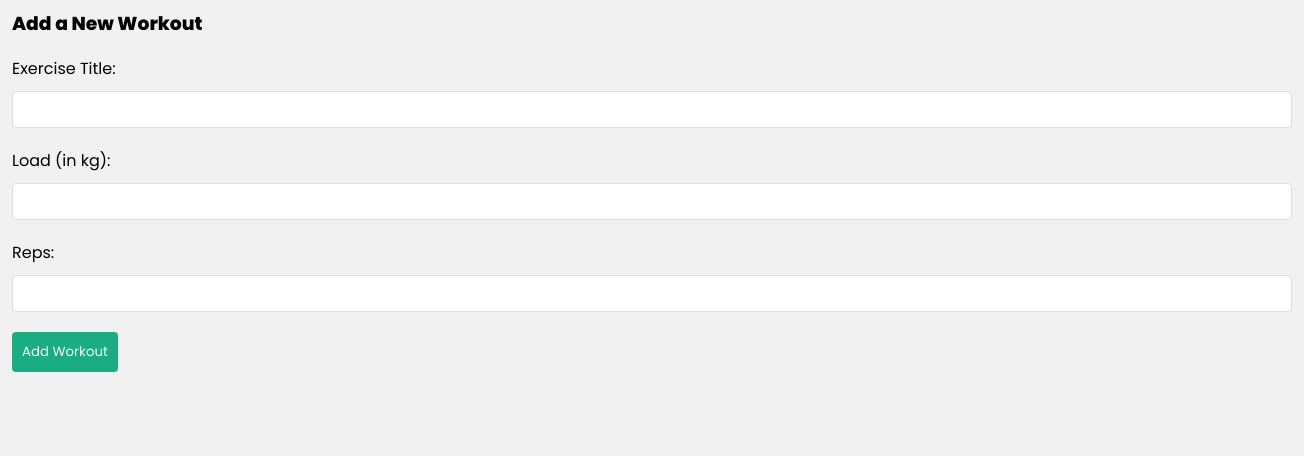
Test: WorkoutForm › shows error on failed submit and does NOT reset fields
This screenshot has width=1304, height=456.
Type "Squat" into the field labelled "Exercise Title:" at (652, 110), box [12,91,1292,128]
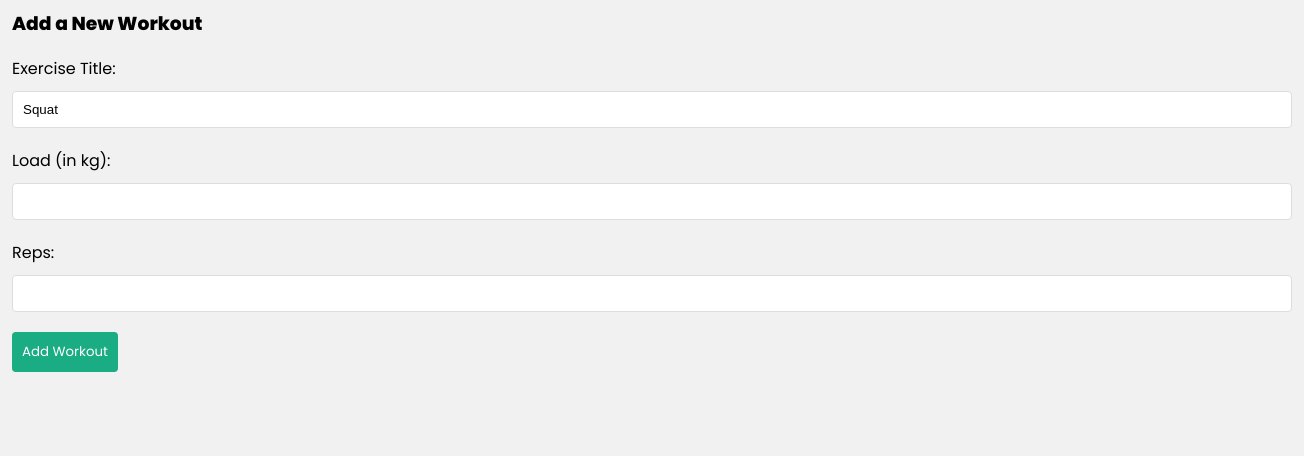
Type "100" into the number field labelled "Load (in kg):" at (652, 202), box [12,183,1292,220]
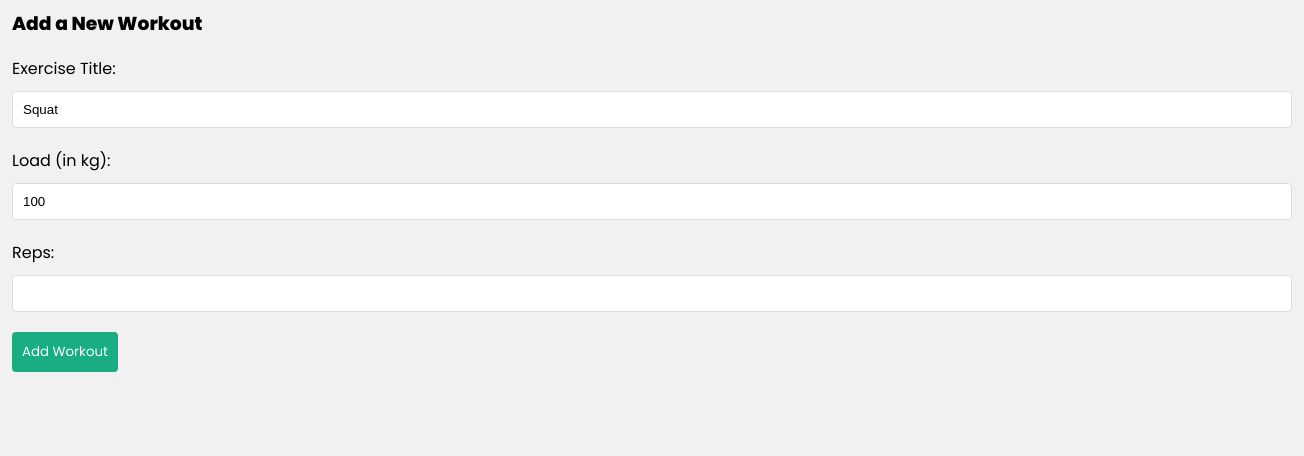
Click the button "Add Workout" at (65, 352), box [12,332,118,372]
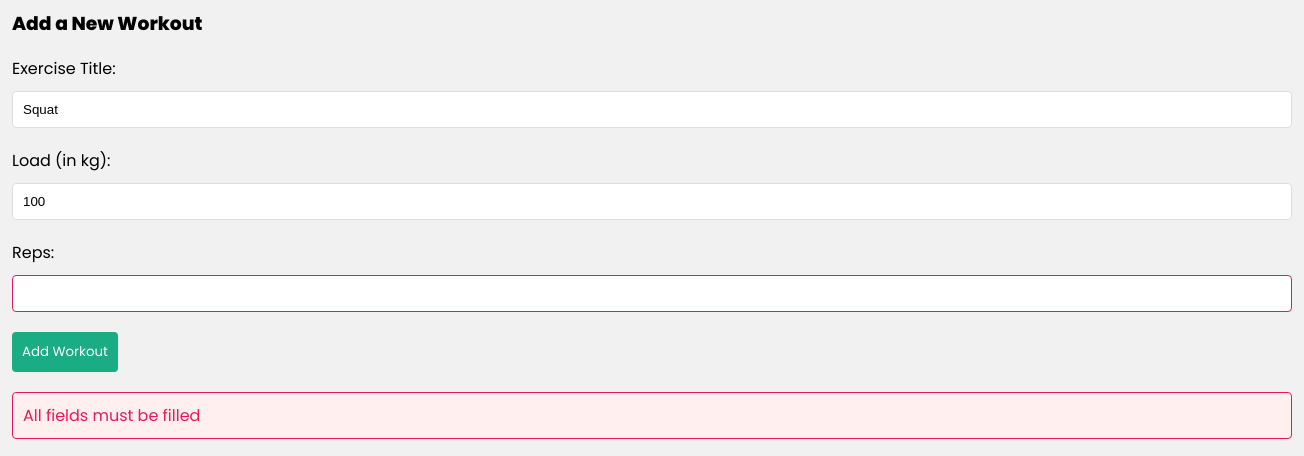
Now the text "All fields must be filled" is shown, box [12,392,1292,439]
